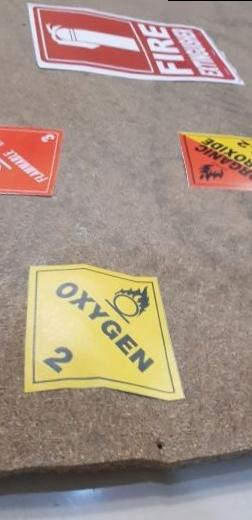organic-peroxide: (179, 131, 252, 196)
oxidizer: (27, 266, 188, 404)
